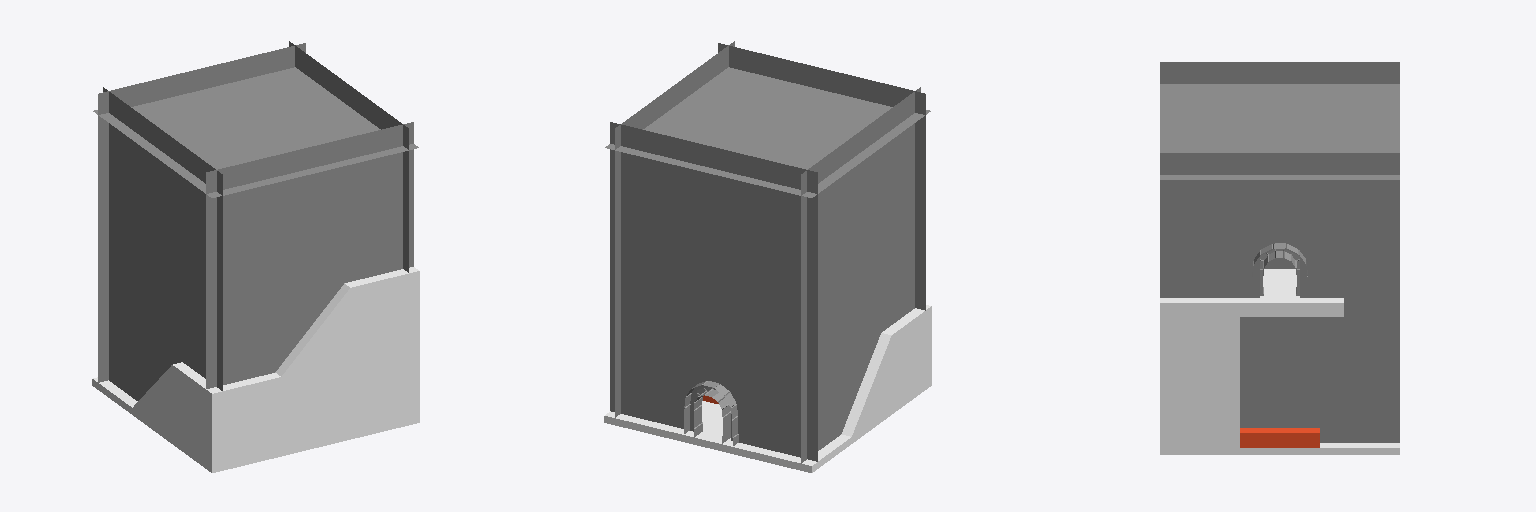
File: cornerStairs.obj
3 views of the same model, side by side, from view 1: azimuth 30°, elevation 25°; view 2: azimuth 150°, elevation 25°; view 3: azimuth 270°, elevation 25° (orthographic).
Parts seen in each view (by area): view 1: struct_wall_main_half_8, struct_wall_main_half_4, struct_ceiling_10, block_default_1, block_default_0, struct_wall_main_half_7, slope_default_3, block_default_7, struct_wall_main_half_6, slope_default_4, struct_wall_main_half_3; view 2: struct_wall_main_half_7, struct_wall_main_half_4, struct_ceiling_10, struct_wall_main_half_8, struct_wall_main_half_2, struct_wall_main_half_3, block_default_7, struct_door_0, block_default_1, slope_default_4, struct_wall_main_half_6; view 3: struct_wall_main_half_8, struct_ceiling_10, struct_wall_main_half_6, block_default_0, struct_wall_main_half_5, struct_wall_main_half_9, struct_wall_main_half_4, struct_door_1, block_default_5, block_default_7, open_block_6.
Boxes of the visible parts, box(x1,y1,x2,y2) form: struct_wall_main_half_8: box(206, 122, 413, 388); struct_wall_main_half_4: box(103, 87, 222, 400); struct_ceiling_10: box(93, 67, 418, 197); block_default_1: box(172, 360, 349, 465); block_default_0: box(345, 267, 419, 431); struct_wall_main_half_7: box(98, 43, 305, 310); slope_default_3: box(275, 283, 349, 376); block_default_7: box(92, 377, 419, 472); struct_wall_main_half_6: box(289, 41, 408, 200); slope_default_4: box(133, 365, 171, 435); struct_wall_main_half_3: box(98, 308, 108, 382); struct_wall_main_half_7: box(610, 122, 817, 388); struct_wall_main_half_4: box(801, 87, 920, 463); struct_ceiling_10: box(605, 67, 930, 197); struct_wall_main_half_8: box(615, 43, 925, 417); struct_wall_main_half_2: box(610, 339, 679, 427); struct_wall_main_half_3: box(749, 373, 817, 461); block_default_7: box(604, 379, 931, 472); struct_door_0: box(680, 356, 748, 445); block_default_1: box(882, 305, 931, 406); slope_default_4: box(841, 333, 891, 436); struct_wall_main_half_6: box(615, 41, 734, 200); struct_wall_main_half_8: box(1240, 298, 1399, 442); struct_ceiling_10: box(1160, 84, 1399, 179); struct_wall_main_half_6: box(1160, 153, 1399, 225); block_default_0: box(1160, 298, 1239, 447); struct_wall_main_half_5: box(1160, 226, 1239, 297); struct_wall_main_half_9: box(1320, 226, 1399, 297); struct_wall_main_half_4: box(1160, 62, 1399, 268); struct_door_1: box(1240, 226, 1319, 297); block_default_5: box(1240, 269, 1343, 316); block_default_7: box(1160, 443, 1399, 454); open_block_6: box(1240, 428, 1319, 447).
Bounding box in the file's own units: 3 × 4.1 × 3.